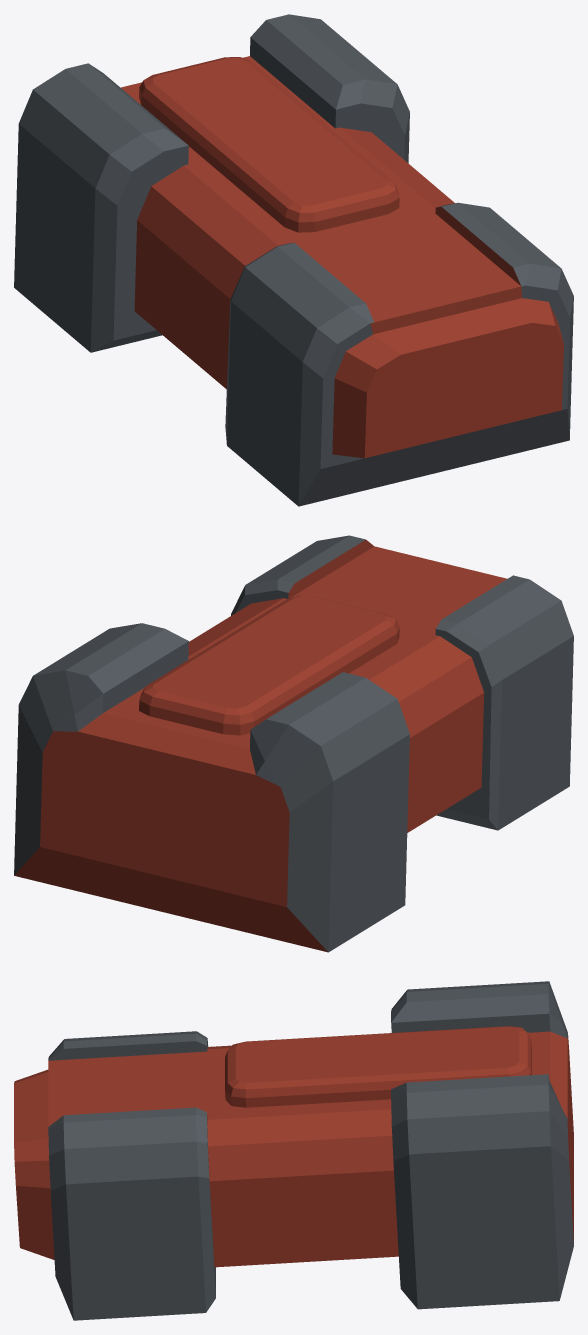
Rendered from Fighter_04_Hatch_Red.fbx.
3 renders of one model, top to bottom at view 1: azimuth 30°, elevation 25°; view 2: azimuth 150°, elevation 25°; view 3: azimuth 270°, elevation 25°, orthographic. The views are drawn at different scales.
Visible parts, largest first — view 1: Fighter_04_Hatch_Red; view 2: Fighter_04_Hatch_Red; view 3: Fighter_04_Hatch_Red.
Boxes of the visible parts, left/top/right/bottom form: Fighter_04_Hatch_Red: left=14, top=14, right=573, bottom=506; Fighter_04_Hatch_Red: left=14, top=535, right=573, bottom=952; Fighter_04_Hatch_Red: left=14, top=981, right=573, bottom=1320.
Bounding box in the file's own units: 176 × 130 × 293.
Materials: 1 (1 with a texture image).
